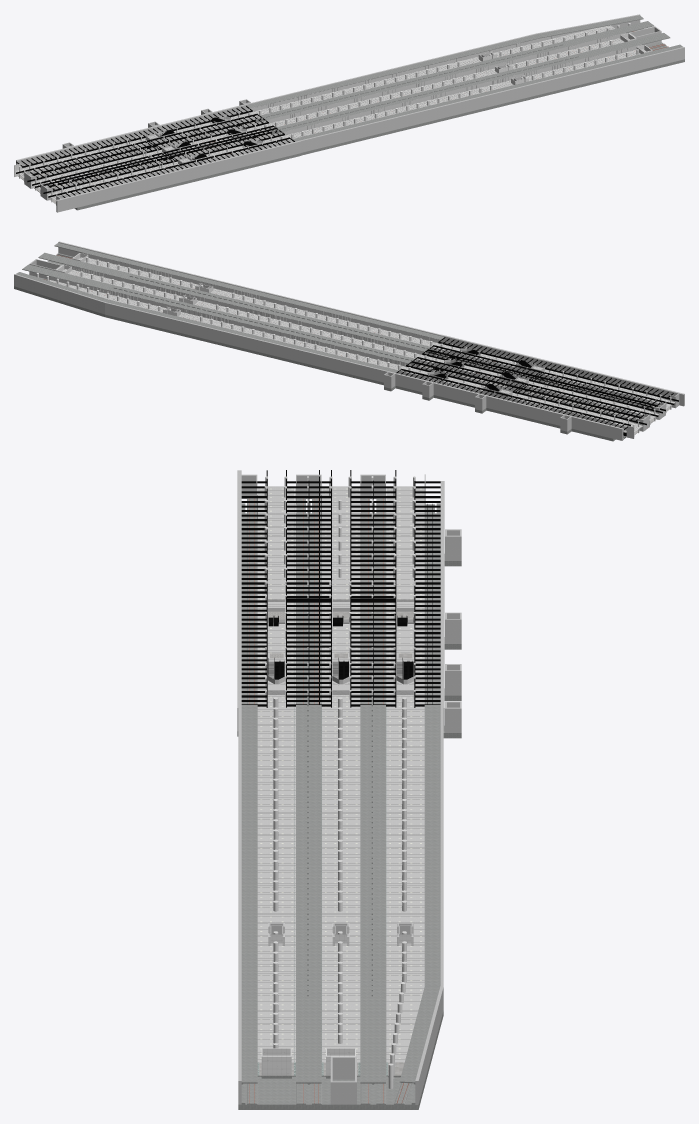
The model's file is station-b2-platform.glb.
3 renders of one model, top to bottom at view 1: azimuth 30°, elevation 25°; view 2: azimuth 150°, elevation 25°; view 3: azimuth 270°, elevation 25°, orthographic. The views are drawn at different scales.
Parts seen in each view (by area): view 1: Node; view 2: Node; view 3: Node.
Boxes of the visible parts, x1=… form: Node: x1=14, y1=14, x2=684, y2=212; Node: x1=14, y1=241, x2=684, y2=441; Node: x1=237, y1=470, x2=461, y2=1109.
Bounding box in the file's own units: 451 × 11.68 × 69.97.
10 materials, 10 textured.
